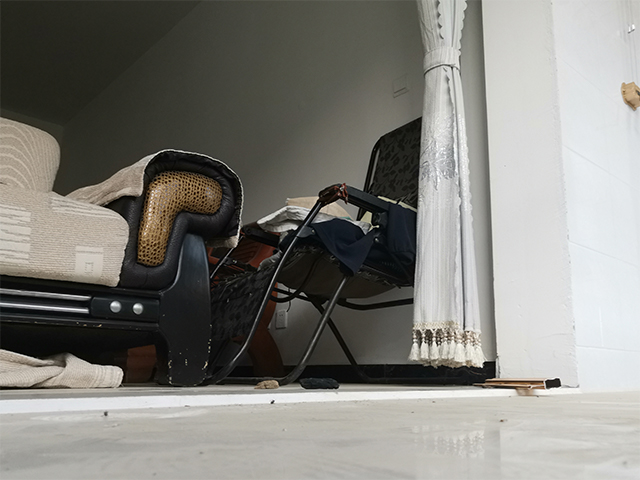curtain: (404, 1, 488, 372)
feces: (295, 376, 340, 391), (249, 379, 282, 392)
sofa: (1, 118, 246, 390)
stool: (210, 116, 423, 386)
